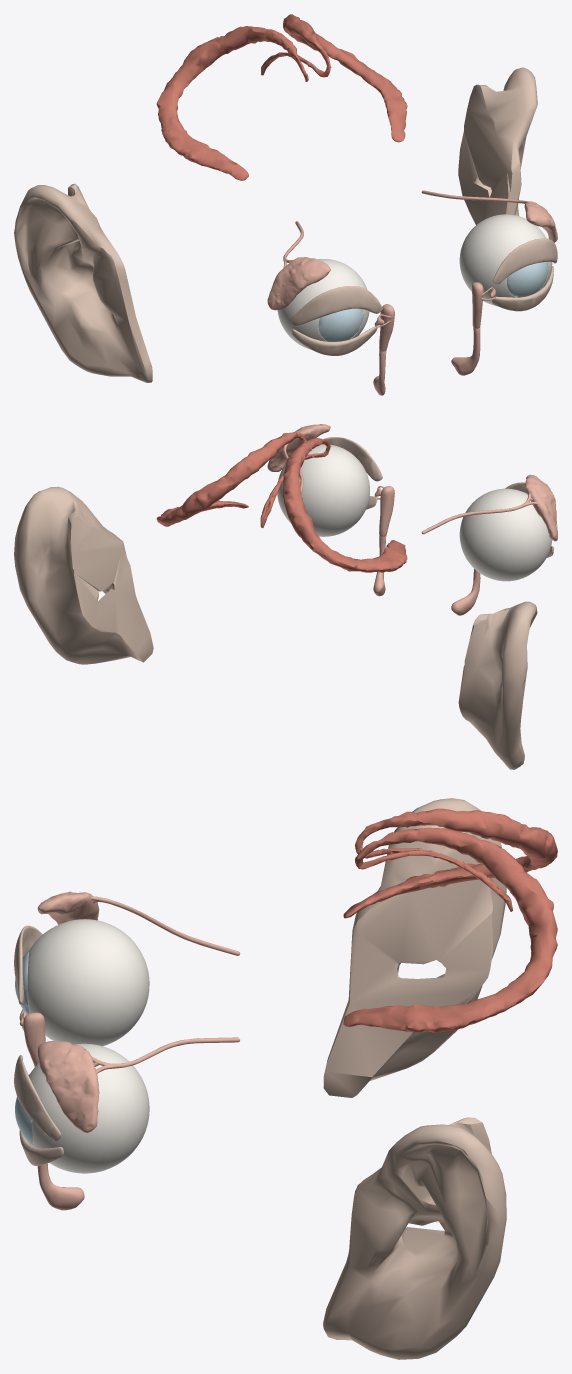
The model's file is olhos.glb.
3 views of the same model, one above another, from view 1: azimuth 30°, elevation 25°; view 2: azimuth 150°, elevation 25°; view 3: azimuth 270°, elevation 25° (orthographic). The views are drawn at different scales.
Visible parts, largest first — view 1: FMA52781, FMA61934, FMA58272, FMA58271, FMA59091, FMA59102, FMA59092, FMA58239, FMA58240, FMA59089, FMA59090, FMA59103 (+3 smaller); view 2: FMA52781, FMA61934, FMA58271, FMA58272, FMA59102, FMA59103, FMA59092, FMA59546, FMA59555, FMA52629; view 3: FMA52781, FMA61934, FMA58271, FMA58272, FMA59103, FMA59102, FMA59092, FMA59556, FMA59091, FMA52630, FMA52629, FMA59545 (+1 smaller).
Boxes of the visible parts, box(x1,y1,x2,y2) form: FMA52781: box(14, 67, 537, 382); FMA61934: box(156, 14, 407, 180); FMA58272: box(459, 214, 552, 305); FMA58271: box(277, 259, 369, 349); FMA59091: box(290, 286, 382, 326); FMA59102: box(267, 257, 330, 310); FMA59092: box(492, 238, 557, 284); FMA58239: box(318, 308, 362, 341); FMA58240: box(507, 262, 548, 297); FMA59089: box(292, 325, 377, 355); FMA59090: box(492, 266, 553, 311); FMA59103: box(524, 201, 557, 242); FMA52781: box(14, 486, 537, 769); FMA61934: box(156, 432, 407, 572); FMA58271: box(459, 488, 552, 581); FMA58272: box(277, 444, 369, 536); FMA59102: box(524, 474, 557, 540); FMA59103: box(267, 424, 330, 471); FMA59092: box(325, 437, 382, 481); FMA59546: box(379, 486, 394, 536); FMA59555: box(451, 569, 480, 615); FMA52629: box(421, 493, 538, 534); FMA52781: box(323, 798, 506, 1359); FMA61934: box(343, 808, 557, 1033); FMA58271: box(27, 919, 149, 1046); FMA58272: box(29, 1043, 149, 1173); FMA59103: box(37, 1041, 99, 1132); FMA59102: box(37, 891, 99, 924); FMA59092: box(14, 1055, 61, 1141); FMA59556: box(37, 1163, 84, 1210); FMA59091: box(14, 925, 42, 1004); FMA52630: box(92, 1037, 239, 1073); FMA52629: box(91, 896, 240, 955); FMA59545: box(23, 1012, 45, 1066).
Bounding box in the file's own units: 0.1675 × 0.089 × 0.1099.
